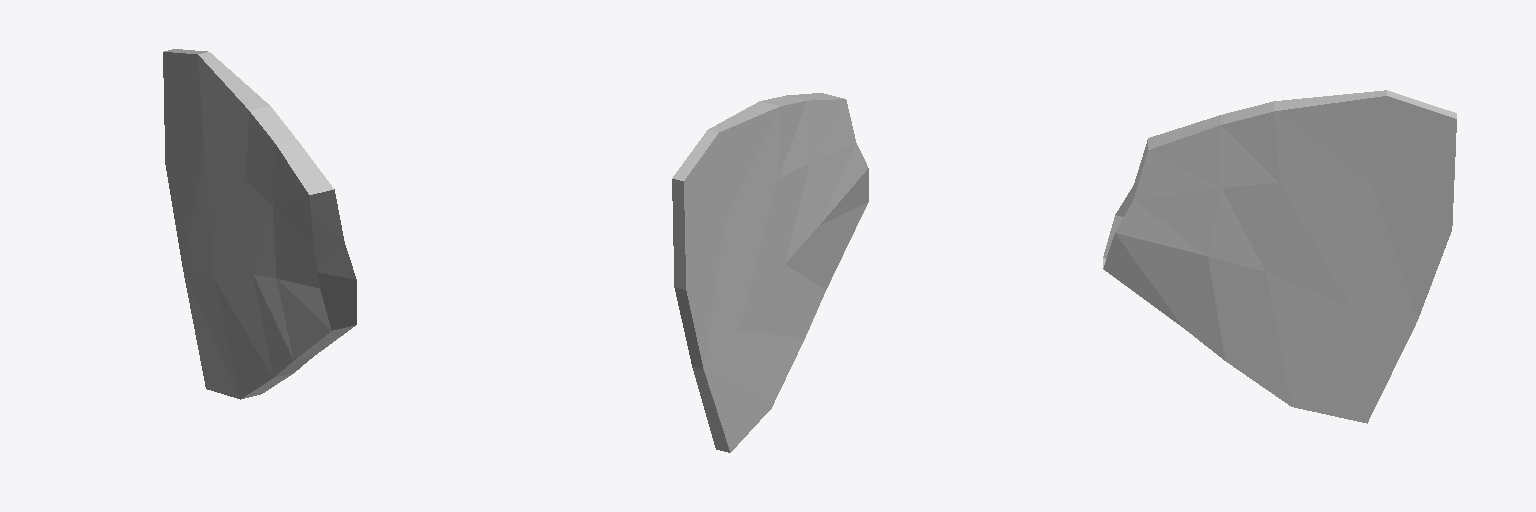
The model's file is cola.obj.
The picture shows the model from 3 angles: view 1: azimuth 30°, elevation 25°; view 2: azimuth 150°, elevation 25°; view 3: azimuth 270°, elevation 25°; orthographic projection.
Visible parts, largest first — view 1: polySurface19; view 2: polySurface19; view 3: polySurface19.
Boxes of the visible parts, box(x1,y1,x2,y2) form: polySurface19: box(163, 49, 356, 399); polySurface19: box(672, 93, 868, 452); polySurface19: box(1103, 90, 1456, 423).
Bounding box in the file's own units: 0.1538 × 1.31 × 1.29.